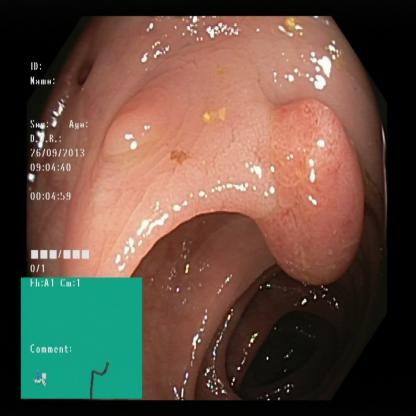Labels: (26, 47, 95, 276), (22, 278, 145, 402)
Polyps: (251, 94, 370, 294)
